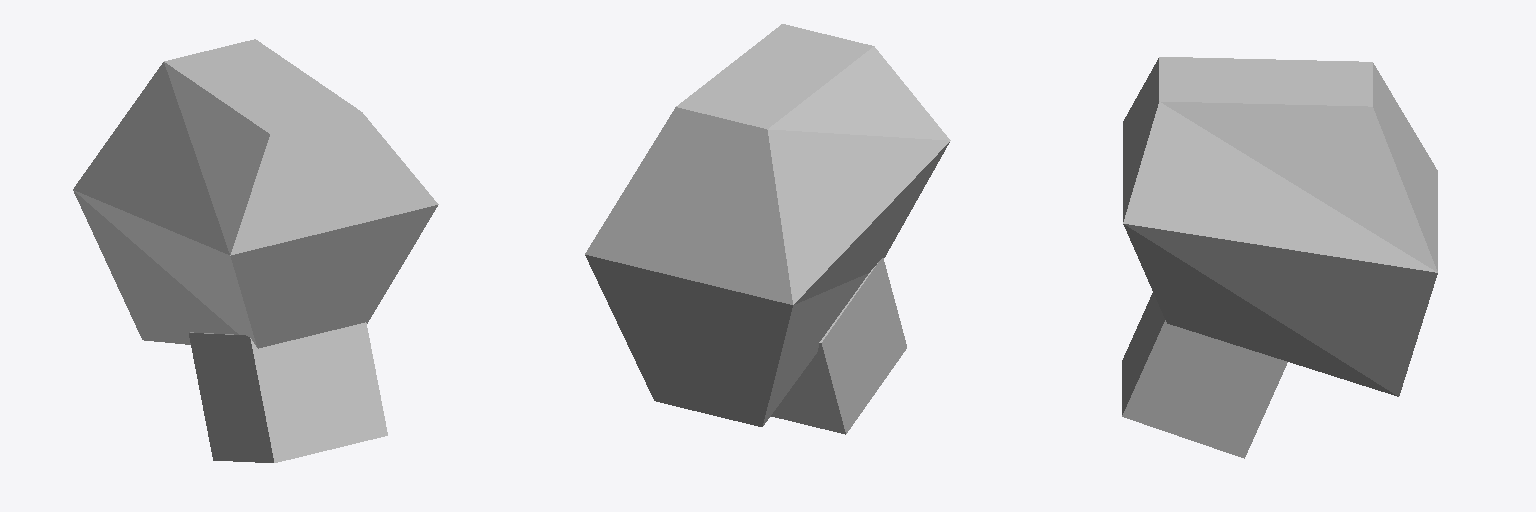
The model's file is head.obj.
The picture shows the model from 3 angles: view 1: azimuth 30°, elevation 25°; view 2: azimuth 150°, elevation 25°; view 3: azimuth 270°, elevation 25°; orthographic projection.
Visible parts, largest first — view 1: Object_8_Cube.004_Material.001_0, Object_9_Cube.004_Material.016_0; view 2: Object_8_Cube.004_Material.001_0, Object_9_Cube.004_Material.016_0; view 3: Object_8_Cube.004_Material.001_0, Object_9_Cube.004_Material.016_0.
Part boxes in pixels (x1,y1,x2,y2): Object_8_Cube.004_Material.001_0: (73, 39, 438, 348); Object_9_Cube.004_Material.016_0: (189, 322, 387, 462); Object_8_Cube.004_Material.001_0: (585, 24, 950, 426); Object_9_Cube.004_Material.016_0: (771, 258, 906, 434); Object_8_Cube.004_Material.001_0: (1123, 57, 1437, 396); Object_9_Cube.004_Material.016_0: (1122, 293, 1287, 458).
Bounding box in the file's own units: 1.29 × 2.1 × 1.7.